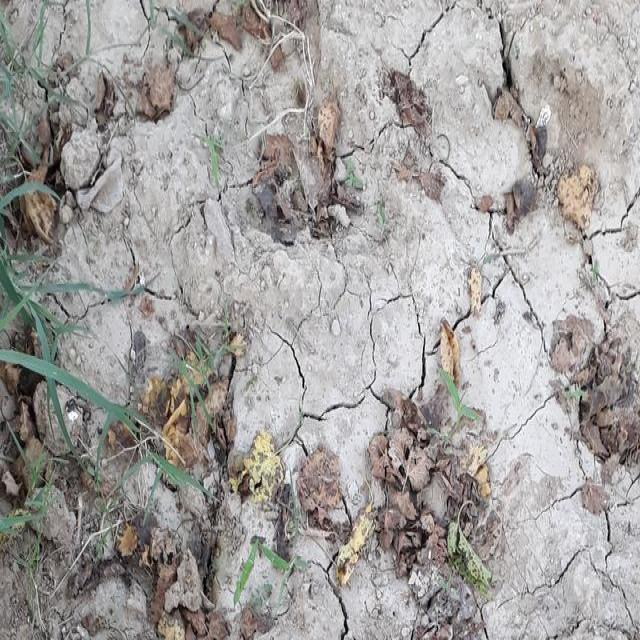weed: (2, 28, 110, 576), (54, 374, 206, 511), (234, 533, 302, 580), (446, 369, 483, 447), (198, 132, 234, 192), (170, 8, 219, 49)
